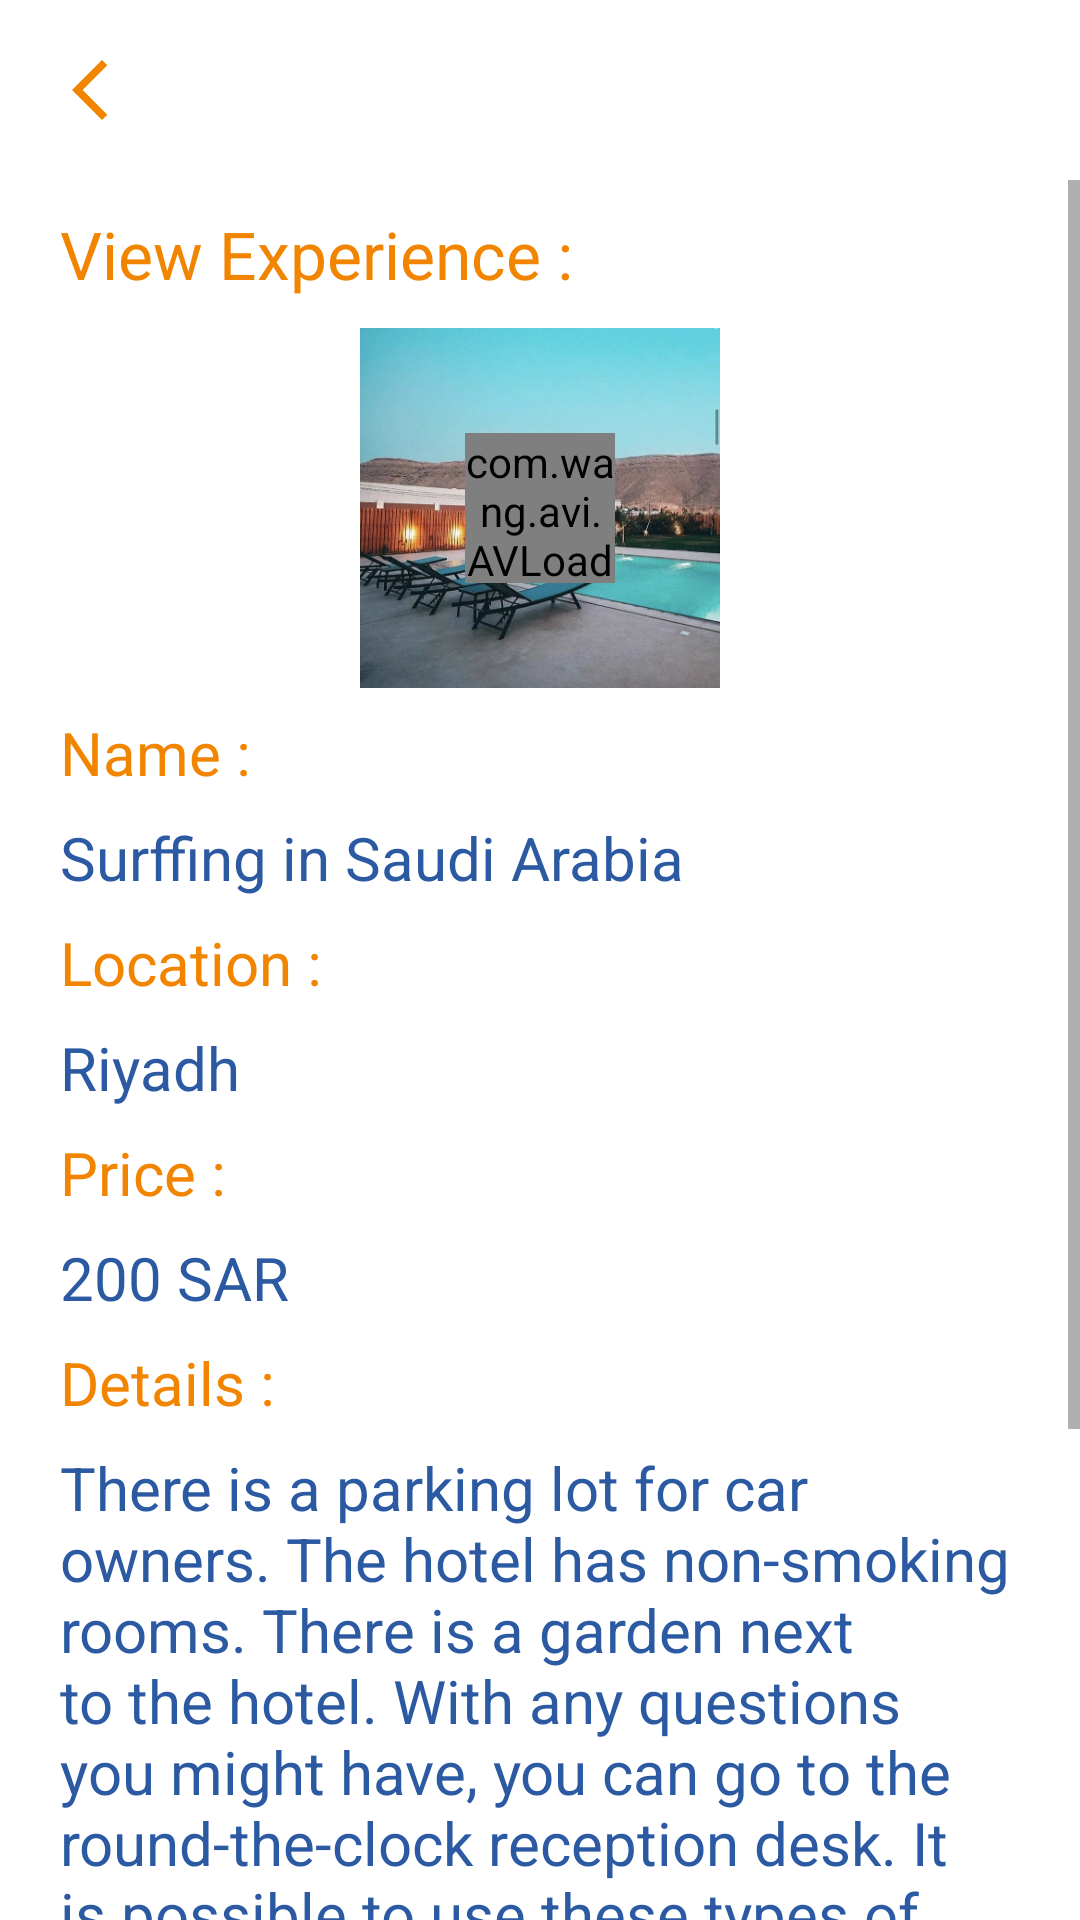

Icons on this 1080px x 1920px Android screen, each with the point to tap as (x,y):
back: (89,90)
